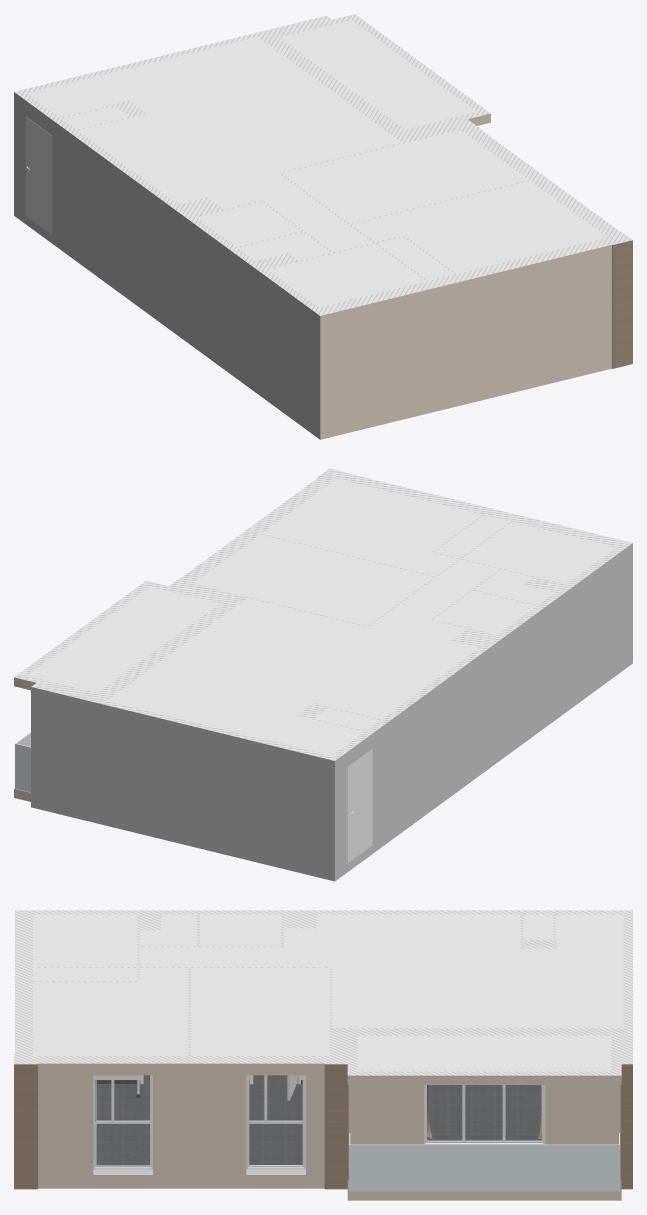
The model's file is t3_a102_location_from_Unity_tagged_2_teapot.gltf.
The picture shows the model from 3 angles, top to bottom: view 1: azimuth 30°, elevation 25°; view 2: azimuth 150°, elevation 25°; view 3: azimuth 270°, elevation 25°; orthographic projection. The views are drawn at different scales.
Visible parts, largest first — view 1: masonry_01, ceiling_01, door_01; view 2: masonry_01, ceiling_01, door_01, railing_glass_100_01; view 3: ceiling_01, masonry_01, railing_glass_100_01, ground_living_01, ground_bed_02, french_base_window_double_01, ground_bed_01.
Part boxes in pixels (left/top/right/bottom): masonry_01: left=14, top=14, right=632, bottom=439; ceiling_01: left=27, top=20, right=606, bottom=307; door_01: left=25, top=116, right=52, bottom=234; masonry_01: left=14, top=468, right=632, bottom=881; ceiling_01: left=27, top=479, right=615, bottom=755; door_01: left=346, top=749, right=372, bottom=863; railing_glass_100_01: left=15, top=732, right=30, bottom=791; ceiling_01: left=33, top=914, right=623, bottom=1071; masonry_01: left=14, top=910, right=632, bottom=1200; railing_glass_100_01: left=349, top=1133, right=619, bottom=1191; ground_living_01: left=283, top=1075, right=541, bottom=1140; ground_bed_02: left=95, top=1083, right=149, bottom=1165; french_base_window_double_01: left=93, top=1075, right=545, bottom=1169; ground_bed_01: left=249, top=1083, right=302, bottom=1164.
Size of what is drawn, in the model's own units: 7.71 by 2.7 by 12.12.
19 materials, 18 textured.
